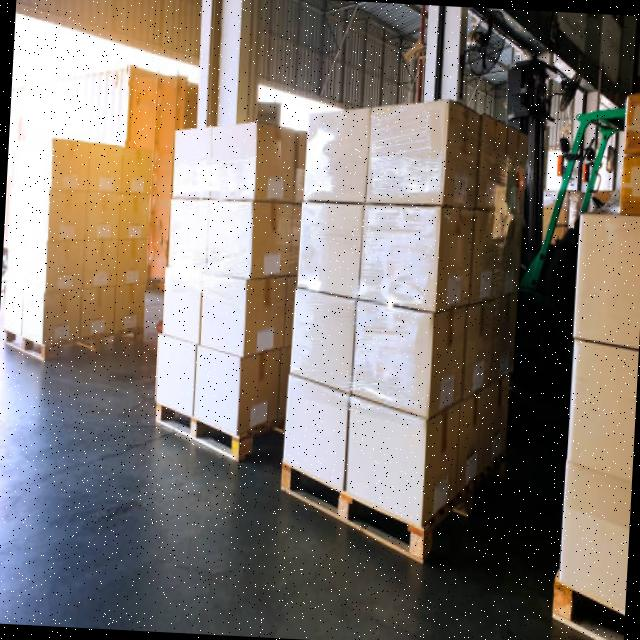Wooden-Pallets: (281, 449, 514, 575), (152, 399, 250, 468)
